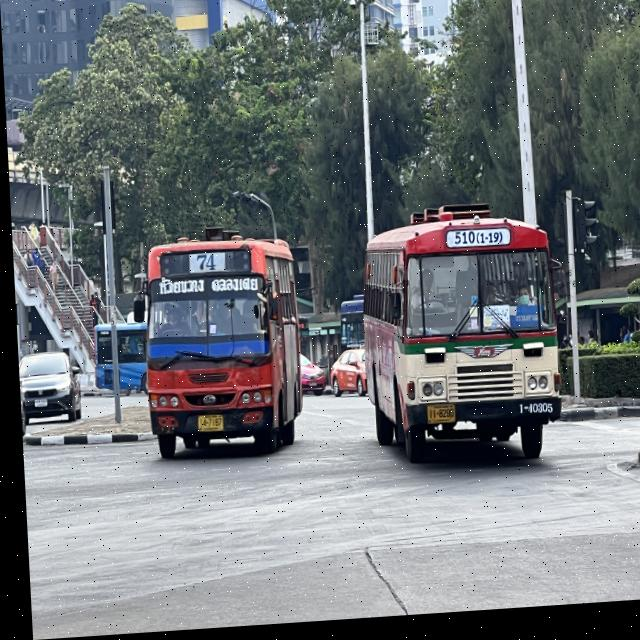BMTA-bus: (358, 212, 558, 470)
Bus Line Number: (447, 231, 500, 255)
Bus Side Number: (512, 405, 552, 424)
Destination Sign: (505, 312, 540, 340)
